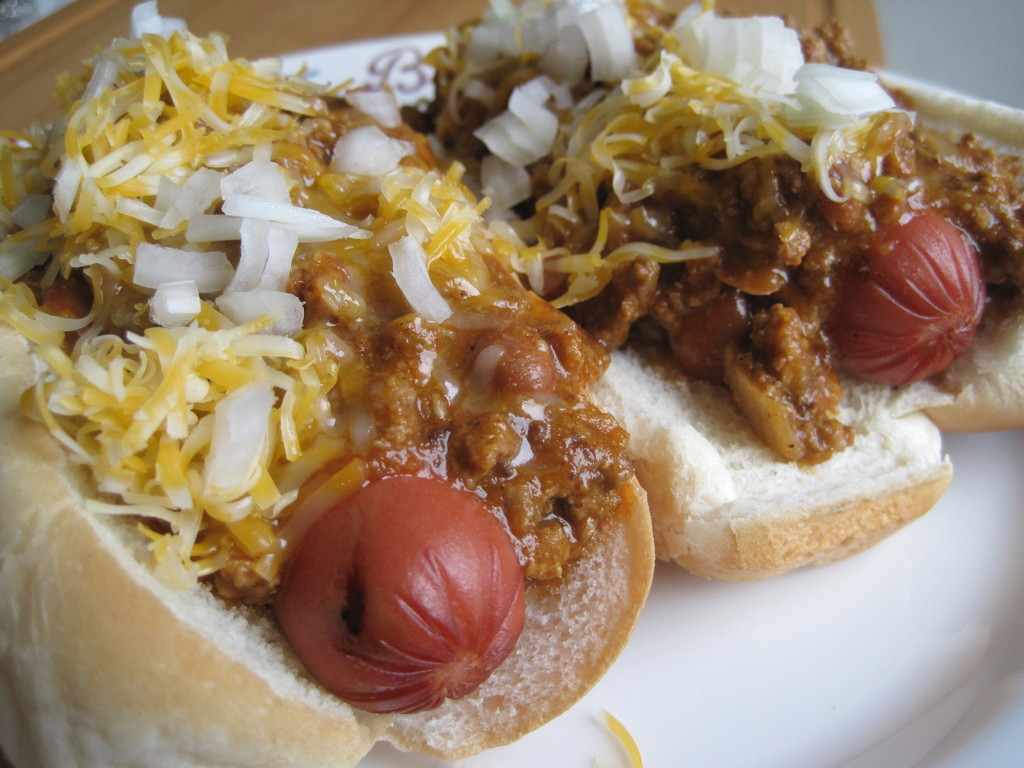hot_dog: (0, 13, 601, 767), (346, 0, 1023, 579), (452, 0, 1023, 570)
